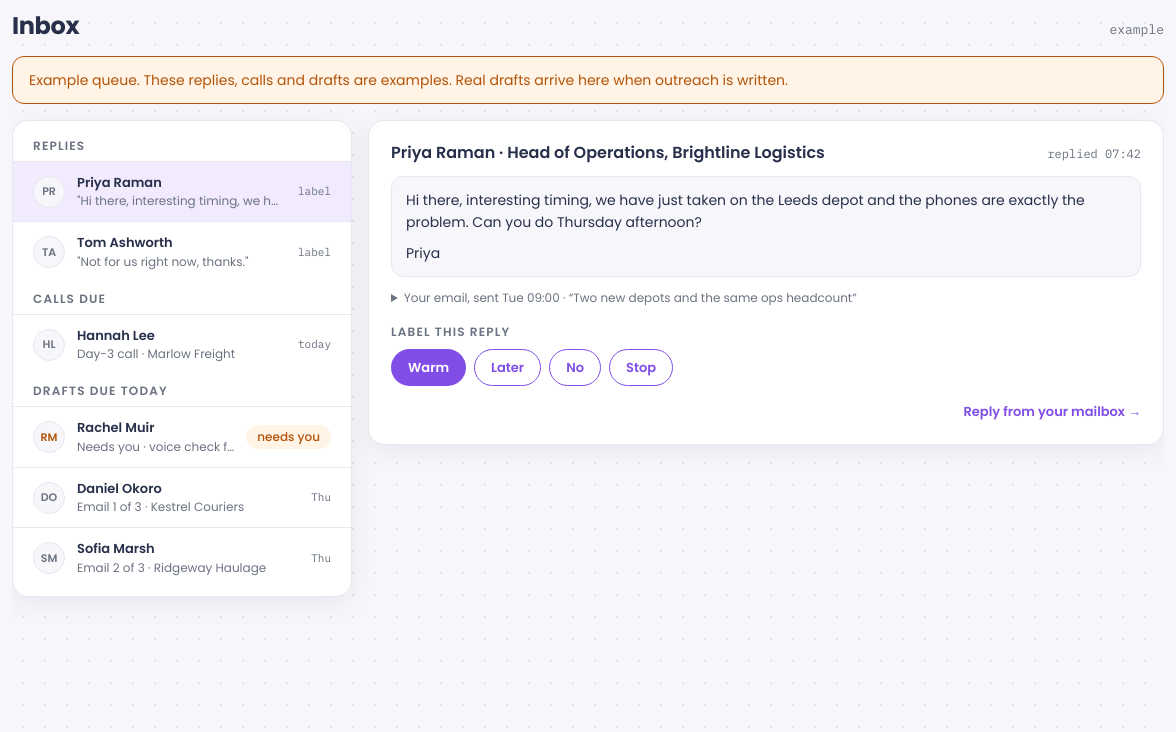
Test: the queue › the keyboard › approves the selected draft on Enter
Click the button with test id "queue-row".
click(182, 497)  # box [13, 467, 351, 528]
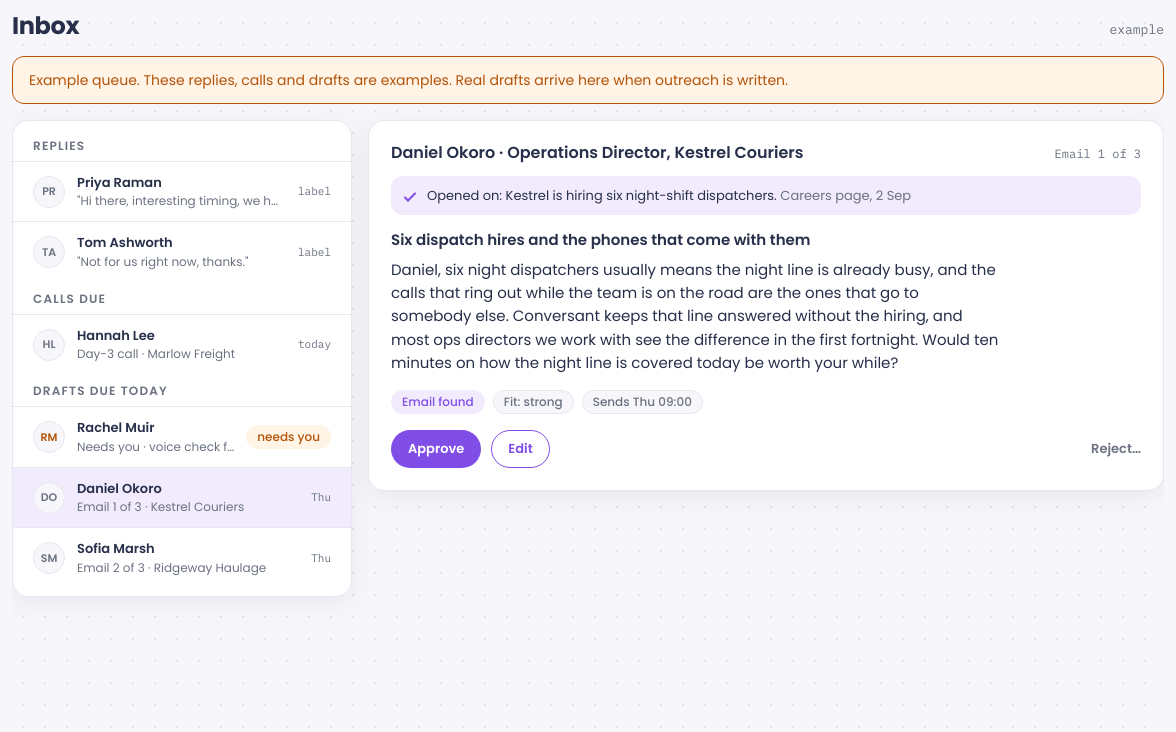
Press Enter
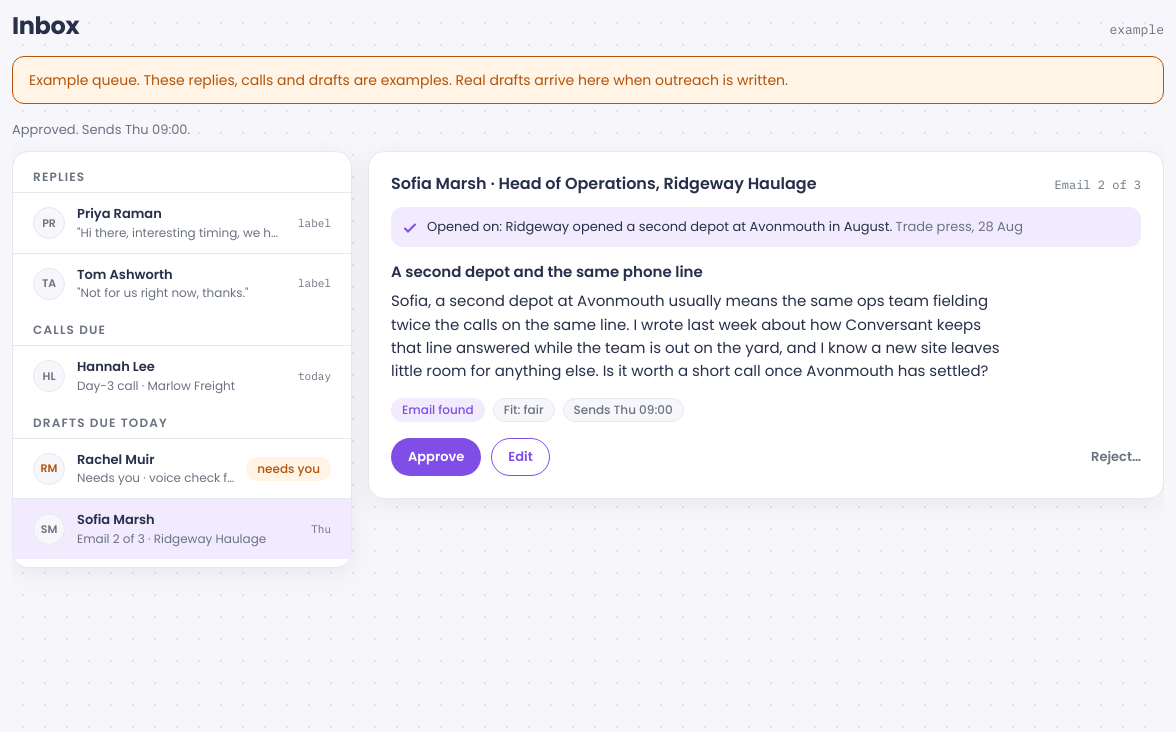
Expected: the button "Daniel Okoro" no longer shows "Daniel Okoro"
Expected: the message shows "Approved.", [12, 120, 190, 139]
